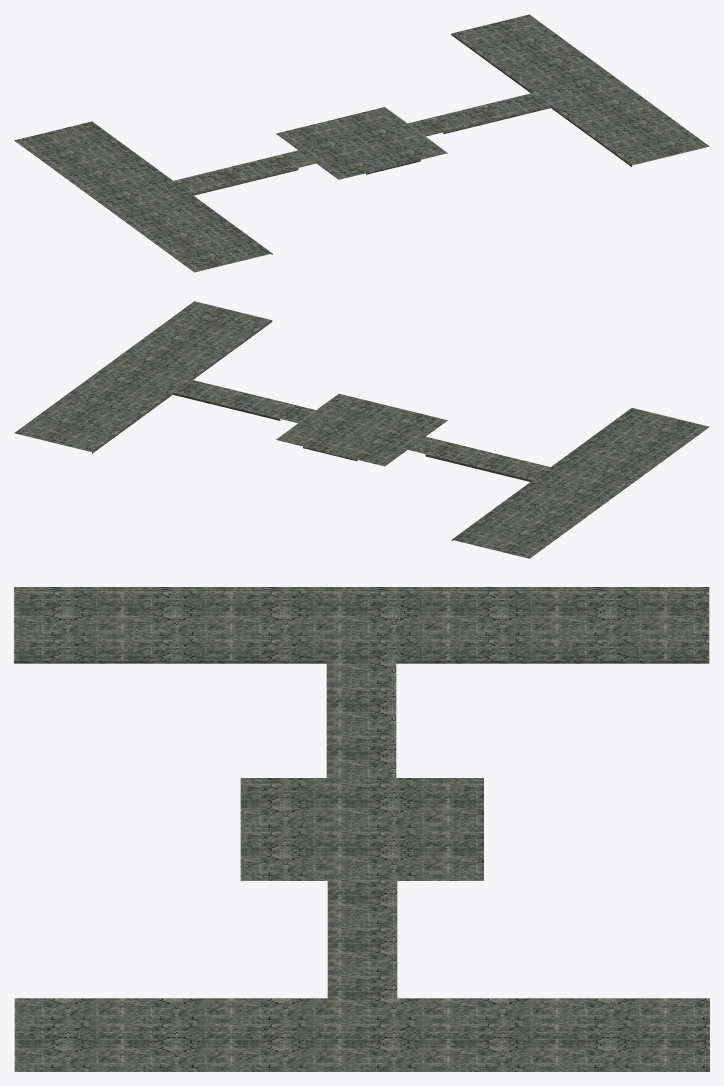
The picture shows the model from 3 angles, top to bottom: view 1: azimuth 30°, elevation 25°; view 2: azimuth 150°, elevation 25°; view 3: azimuth 270°, elevation 25°; orthographic projection. The views are drawn at different scales.
Parts seen in each view (by area): view 1: di01; view 2: di01; view 3: di01.
Boxes of the visible parts, box(x1,y1,x2,y2) form: di01: box(14, 14, 709, 272); di01: box(14, 301, 709, 558); di01: box(14, 587, 709, 1071).
Size of the model in its own units: 1650 by 6.88 by 1001.
